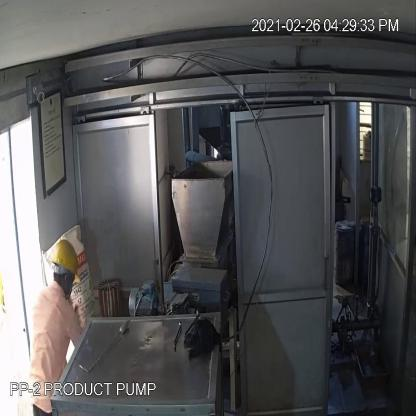helmet: (48, 237, 85, 290)
